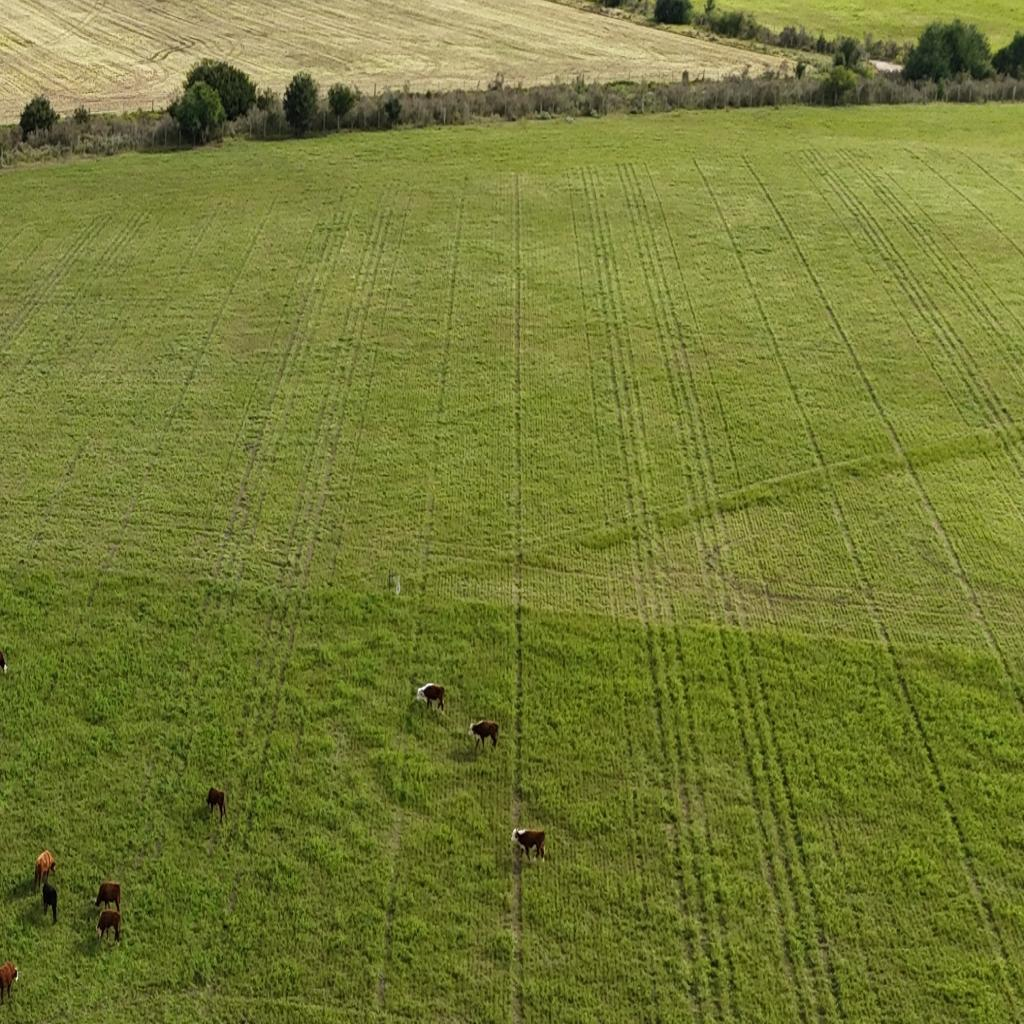cow: (512, 827, 545, 862), (468, 720, 499, 750), (33, 849, 57, 886), (96, 909, 122, 943), (95, 881, 121, 913), (416, 683, 445, 711), (40, 880, 58, 925), (0, 959, 18, 1003), (206, 786, 227, 822), (0, 646, 10, 674)
